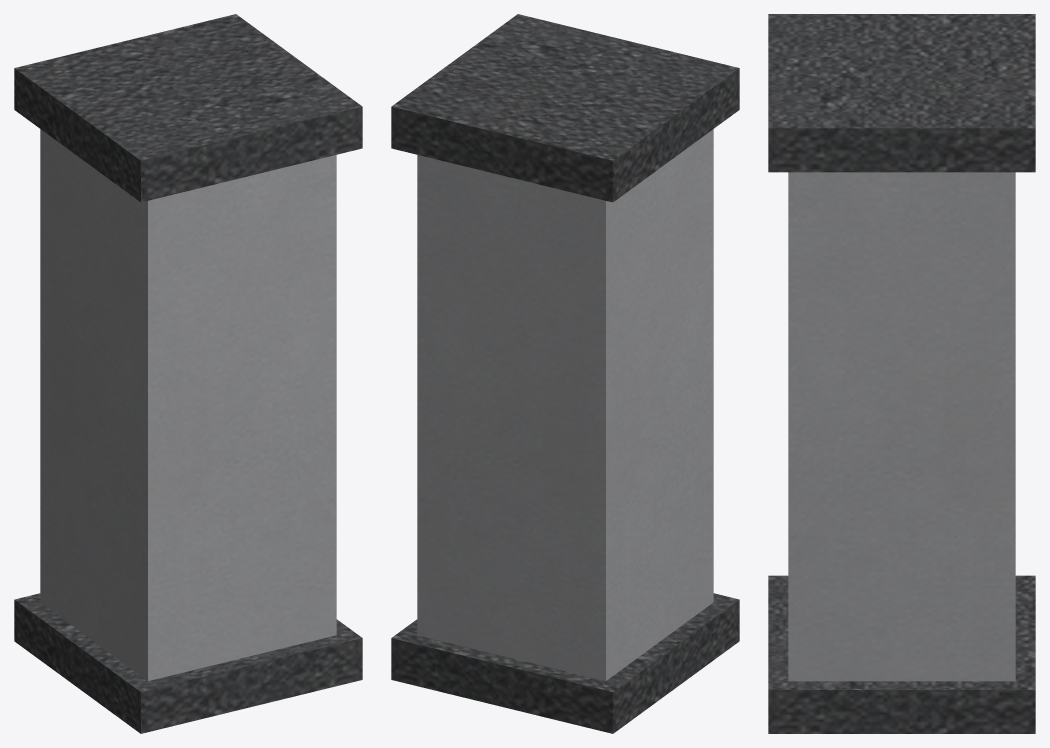
File: 01_column.glb
3 views of the same model, side by side, from view 1: azimuth 30°, elevation 25°; view 2: azimuth 150°, elevation 25°; view 3: azimuth 270°, elevation 25° (orthographic). The views are drawn at different scales.
Visible parts, largest first — view 1: part_1.005, part_2.005, part_3.005; view 2: part_1.005, part_2.005, part_3.005; view 3: part_1.005, part_2.005, part_3.005.
Part boxes in pixels (x1,y1,x2,y2): part_1.005: [40, 129, 336, 680]; part_2.005: [14, 14, 362, 202]; part_3.005: [14, 593, 362, 733]; part_1.005: [417, 129, 713, 680]; part_2.005: [391, 14, 739, 202]; part_3.005: [391, 593, 739, 733]; part_1.005: [788, 172, 1015, 681]; part_2.005: [768, 14, 1035, 172]; part_3.005: [768, 575, 1035, 733].
Bounding box in the file's own units: 1.21 × 2.99 × 1.2.
3 materials, 3 textured.
